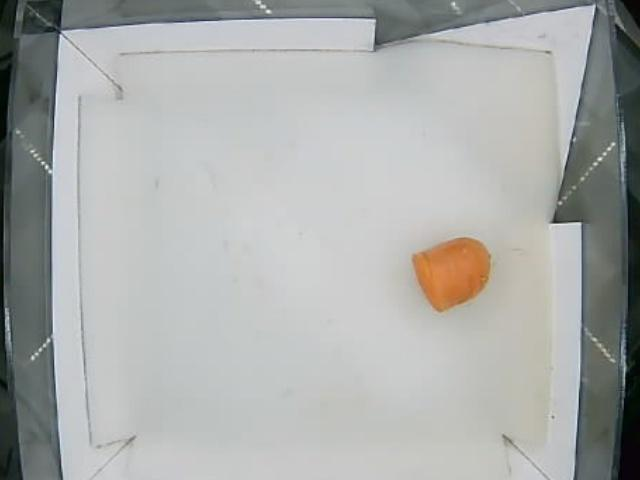Carrot: (411, 238, 492, 313)
